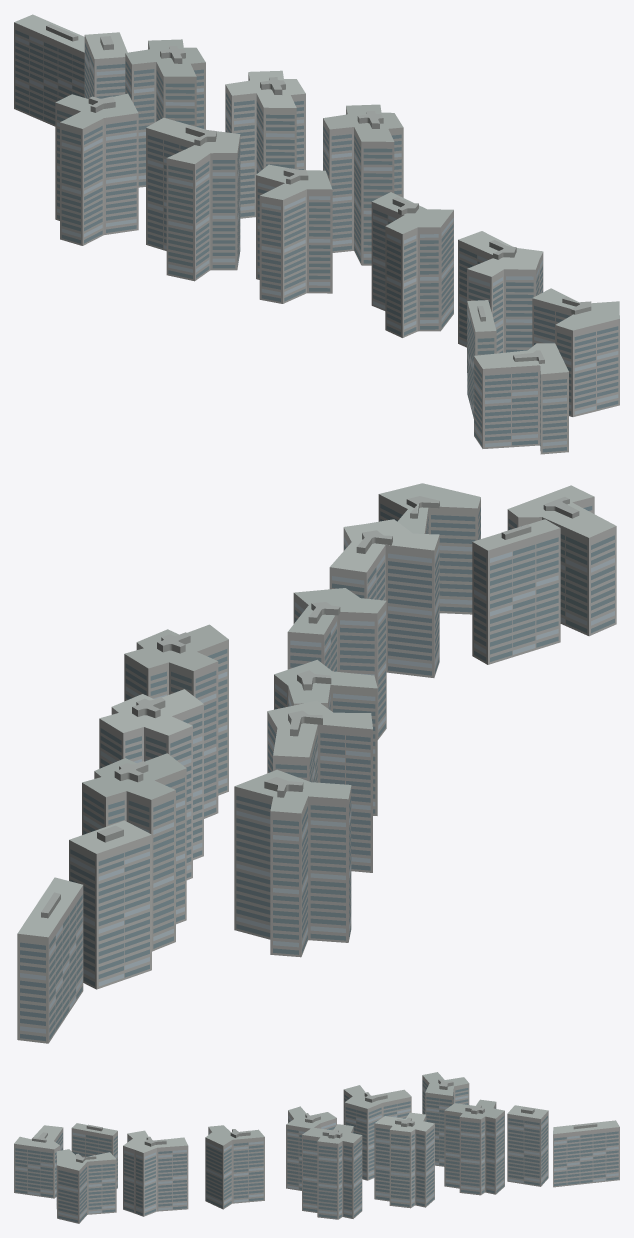
Rendered from apt-a10027189.glb.
3 views of the same model, one above another, from view 1: azimuth 30°, elevation 25°; view 2: azimuth 150°, elevation 25°; view 3: azimuth 270°, elevation 25° (orthographic). The views are drawn at different scales.
Visible parts, largest first — view 1: apt-a10027189; view 2: apt-a10027189; view 3: apt-a10027189.
Boxes of the visible parts, x1=… form: apt-a10027189: x1=14, y1=14, x2=619, y2=454; apt-a10027189: x1=17, y1=483, x2=616, y2=1043; apt-a10027189: x1=14, y1=1072, x2=619, y2=1223.
Size of the model in its own units: 123 by 57 by 394.
